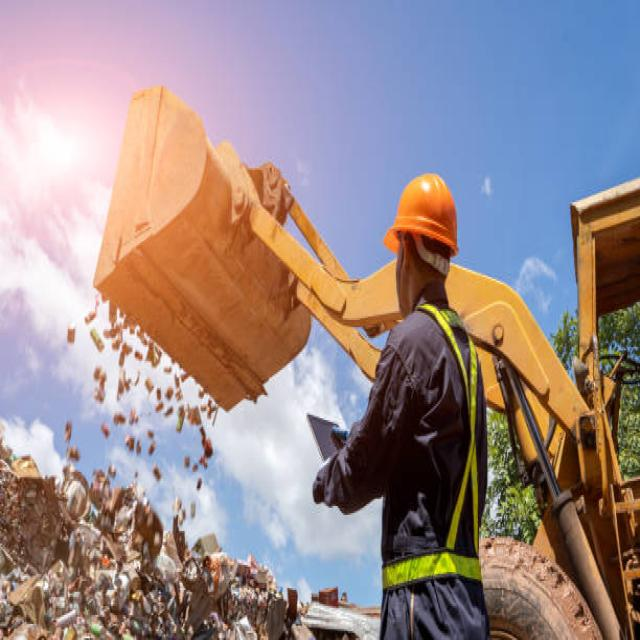trash: (16, 384, 256, 631)
